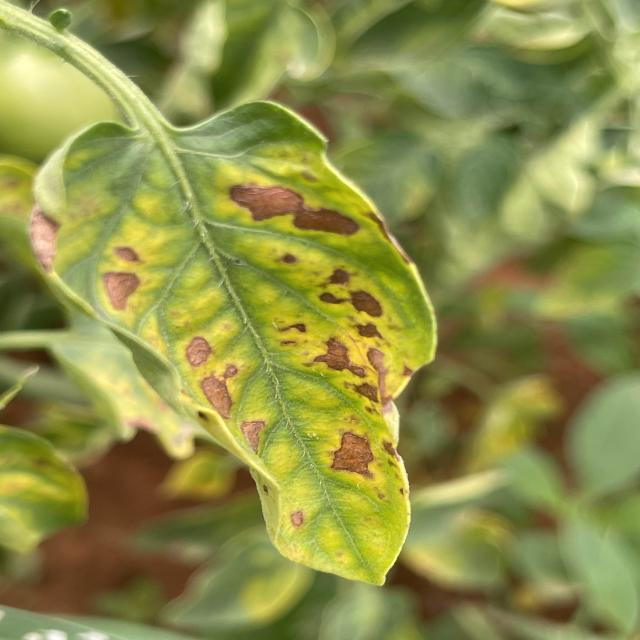tomato_early blight: (0, 96, 438, 585)
